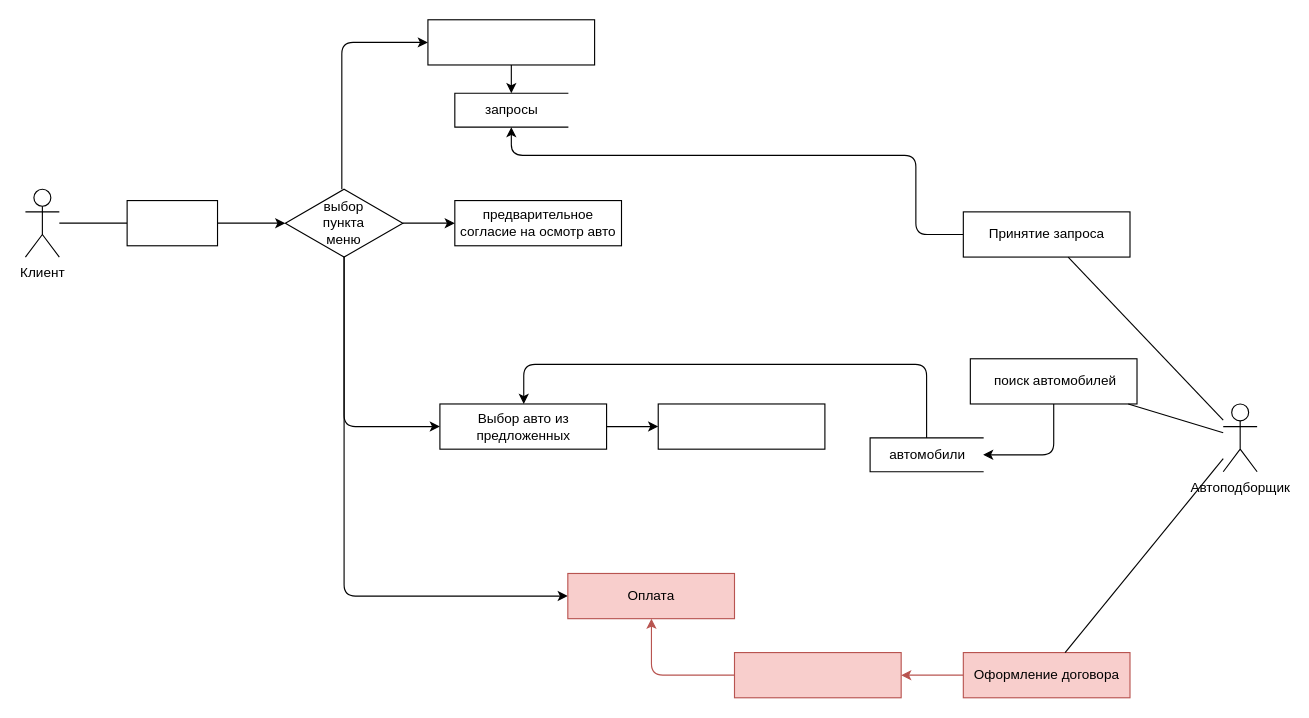
This 1309x718 diagram has some shape labels left out. Each missing label, with the centre of its shape:
"добавление в избранное" belongs at (x=741, y=426).
"заходит на сайт" belongs at (x=172, y=222).
"отправка запроса на поиск" belongs at (x=511, y=42).
"Подтверждение оплаты" belongs at (x=817, y=674).
